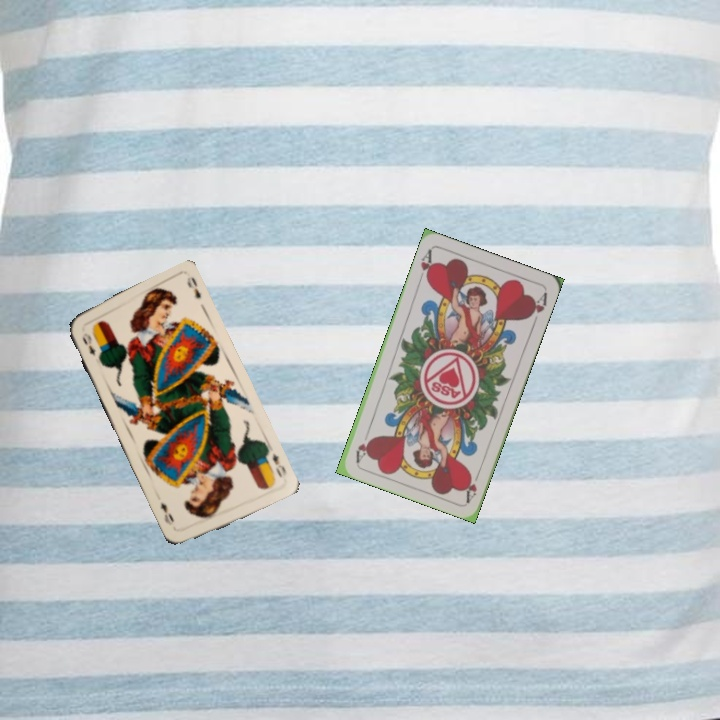EO: (268, 449, 289, 480), (78, 329, 98, 357)
HA: (414, 246, 436, 285), (461, 465, 483, 504)
